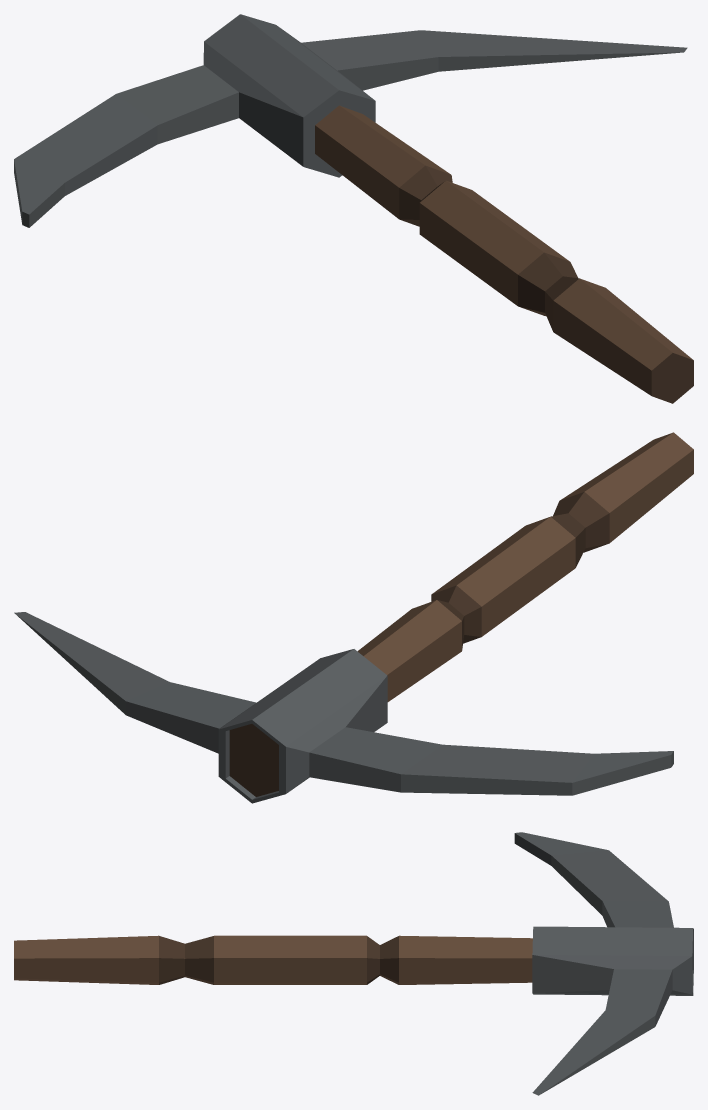
Rendered from Pickaxe_5_Brown.fbx.
3 renders of one model, top to bottom at view 1: azimuth 30°, elevation 25°; view 2: azimuth 150°, elevation 25°; view 3: azimuth 270°, elevation 25°, orthographic. The views are drawn at different scales.
Visible parts, largest first — view 1: Pickaxe_5_Brown_Part_3, Pickaxe_5_Brown_Part_1, Pickaxe_5_Brown_Part_2; view 2: Pickaxe_5_Brown_Part_3, Pickaxe_5_Brown_Part_1, Pickaxe_5_Brown_Part_2; view 3: Pickaxe_5_Brown_Part_3, Pickaxe_5_Brown_Part_1, Pickaxe_5_Brown_Part_2.
Boxes of the visible parts, x1,y1,x2,y2 form: Pickaxe_5_Brown_Part_3: (14, 14, 687, 227); Pickaxe_5_Brown_Part_1: (315, 105, 692, 395); Pickaxe_5_Brown_Part_2: (399, 165, 693, 403); Pickaxe_5_Brown_Part_3: (14, 612, 673, 803); Pickaxe_5_Brown_Part_1: (357, 432, 693, 701); Pickaxe_5_Brown_Part_2: (229, 492, 609, 796); Pickaxe_5_Brown_Part_3: (514, 832, 693, 1095); Pickaxe_5_Brown_Part_1: (14, 935, 532, 984); Pickaxe_5_Brown_Part_2: (159, 936, 398, 984).
Bounding box in the file's own units: 44.62 × 5.51 × 49.95.
